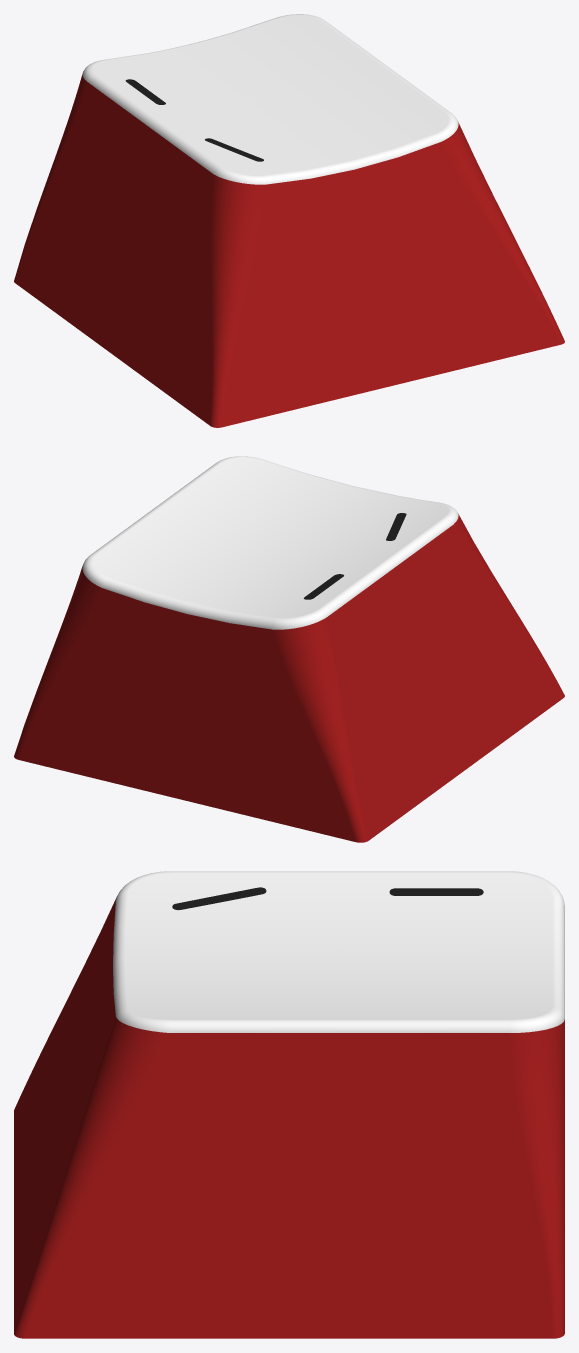
The model's file is Pipe.fbx.
3 renders of one model, top to bottom at view 1: azimuth 30°, elevation 25°; view 2: azimuth 150°, elevation 25°; view 3: azimuth 270°, elevation 25°, orthographic. The views are drawn at different scales.
Visible parts, largest first — view 1: Body1; view 2: Body1; view 3: Body1.
Boxes of the visible parts, left/top/right/bottom form: Body1: left=14, top=14, right=564, bottom=427; Body1: left=14, top=456, right=564, bottom=842; Body1: left=14, top=871, right=564, bottom=1338.
Bounding box in the file's own units: 18 × 9.95 × 18.
